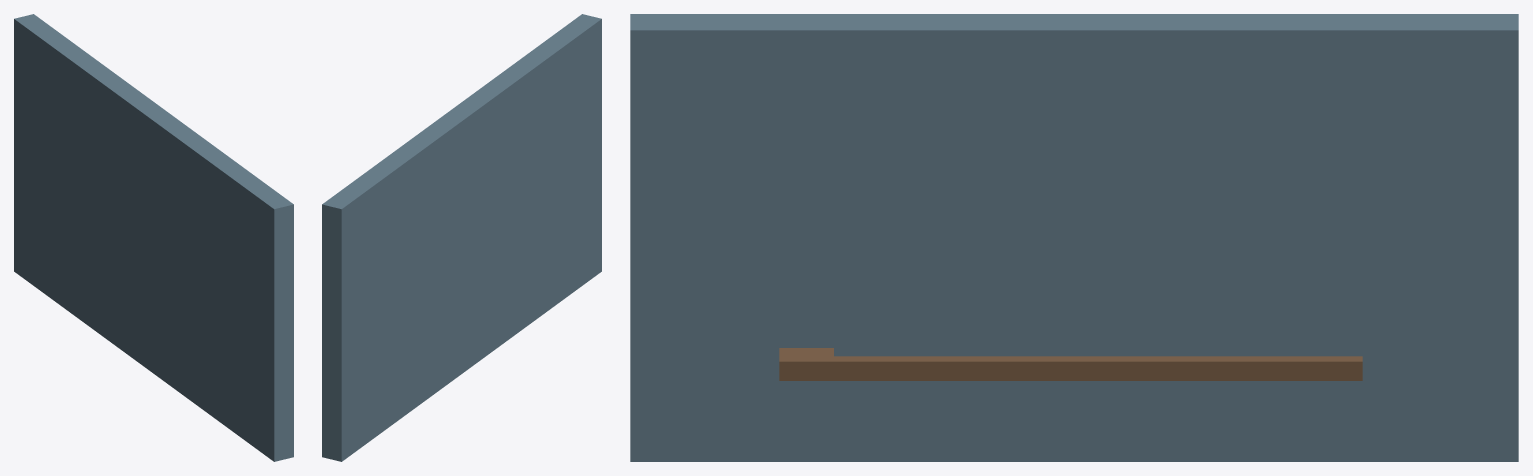
Rendered from AntaCredenzaCorretta.fbx.
The picture shows the model from 3 angles, left to right: view 1: azimuth 30°, elevation 25°; view 2: azimuth 150°, elevation 25°; view 3: azimuth 270°, elevation 25°; orthographic projection. The views are drawn at different scales.
Visible parts, largest first — view 1: CucinaAntaCredenza; view 2: CucinaAntaCredenza; view 3: CucinaAntaCredenza.
Part boxes in pixels (<box>): CucinaAntaCredenza: <box>14,14,293,461</box>; CucinaAntaCredenza: <box>322,14,601,461</box>; CucinaAntaCredenza: <box>630,14,1518,461</box>.
Size of the model in its own units: 8.11 by 54.27 by 101.
